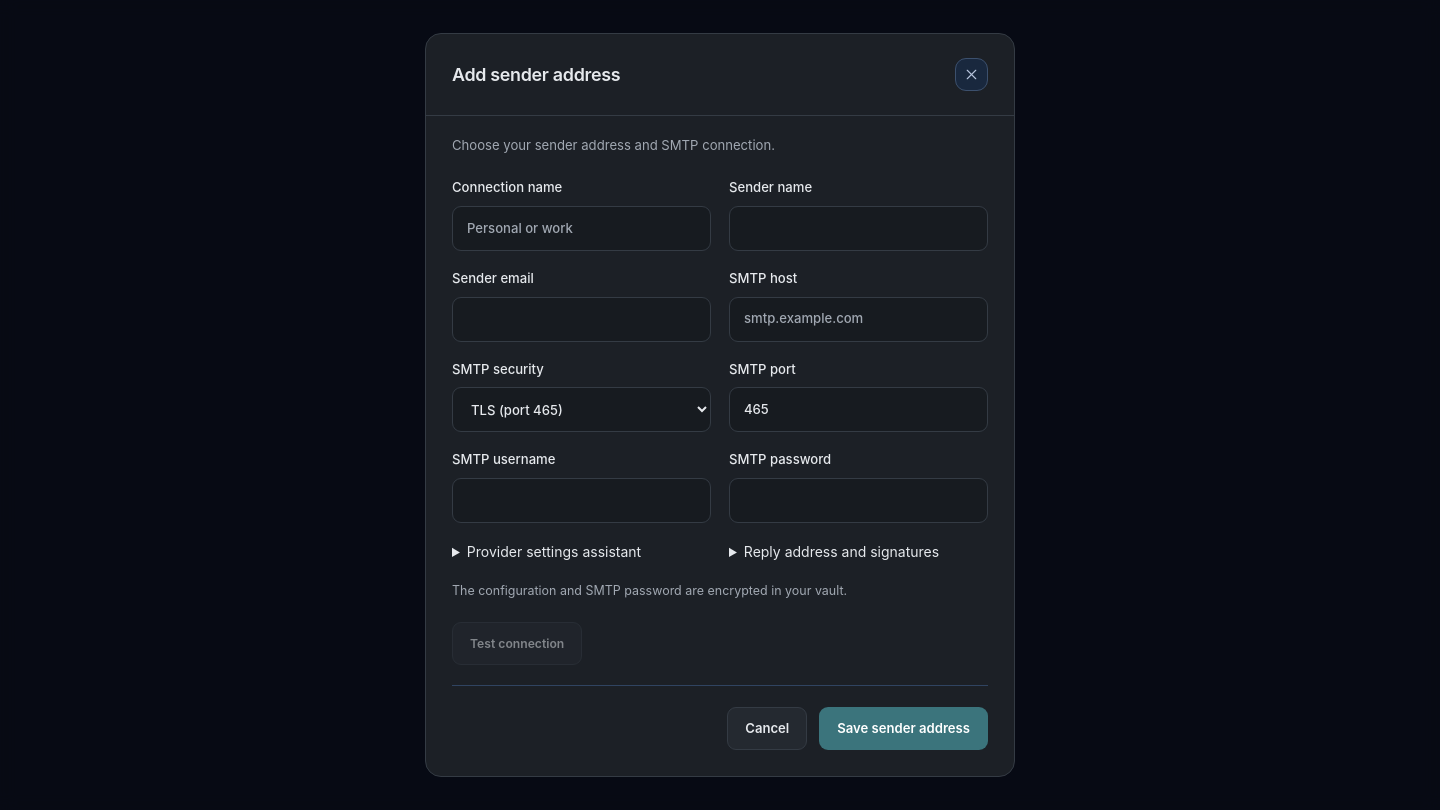
it: sending identity configuration › uses port 587 for STARTTLS and shows failed saves
This screenshot has width=1440, height=810.
Select "STARTTLS (port 587)" in the dropdown labelled "SMTP security". click: (582, 410)
box: top-left (452, 387), bottom-right (711, 432)
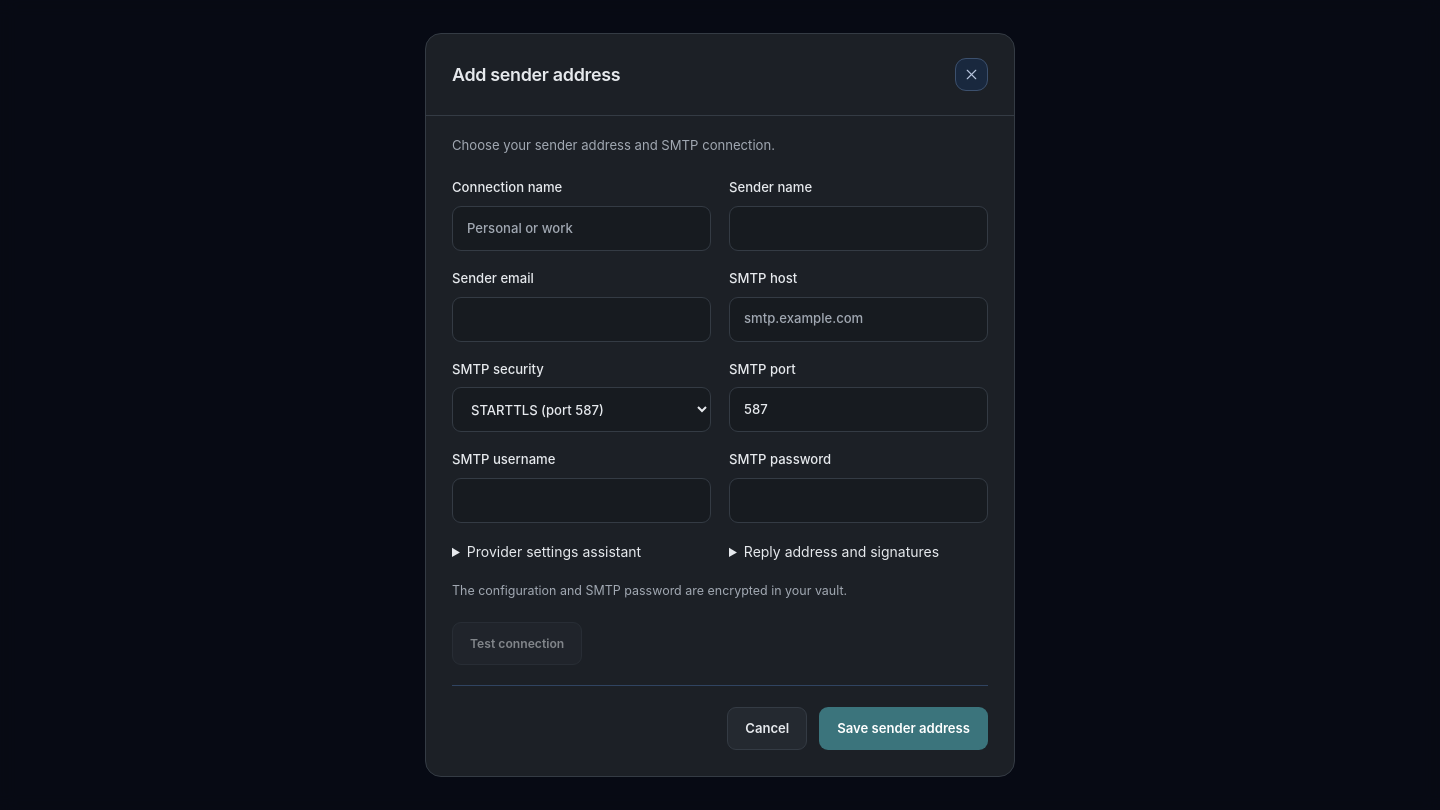
Expected: the number field labelled "SMTP port" holds "587", top-left (729, 387), bottom-right (988, 432)
Submit the form, box top-left (426, 156), bottom-right (1014, 776)
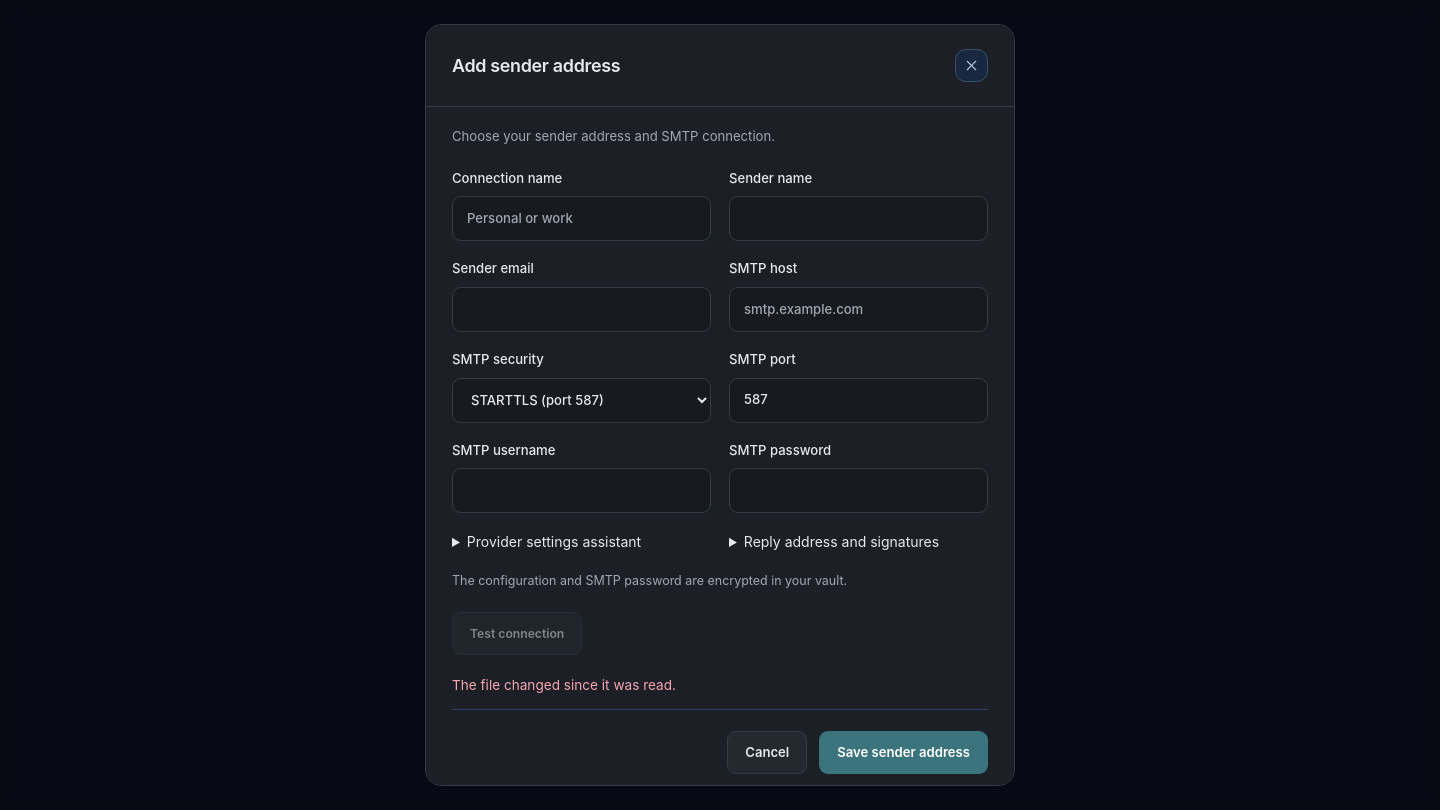
Expected: the message "The file changed since it was read." is shown, top-left (452, 677), bottom-right (676, 693)
